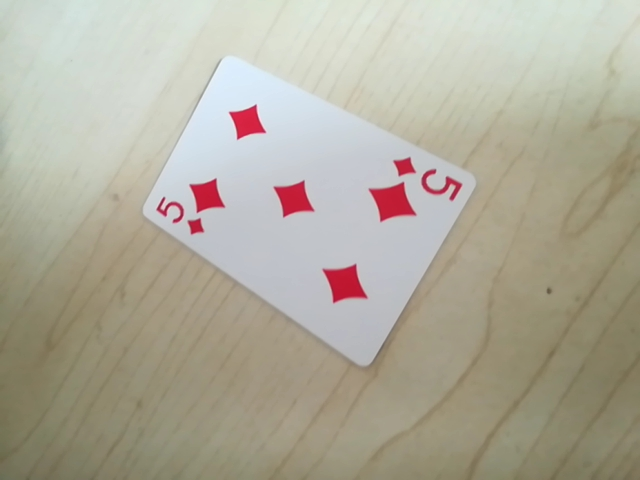fk 5: (387, 156, 467, 195), (154, 196, 210, 236)
